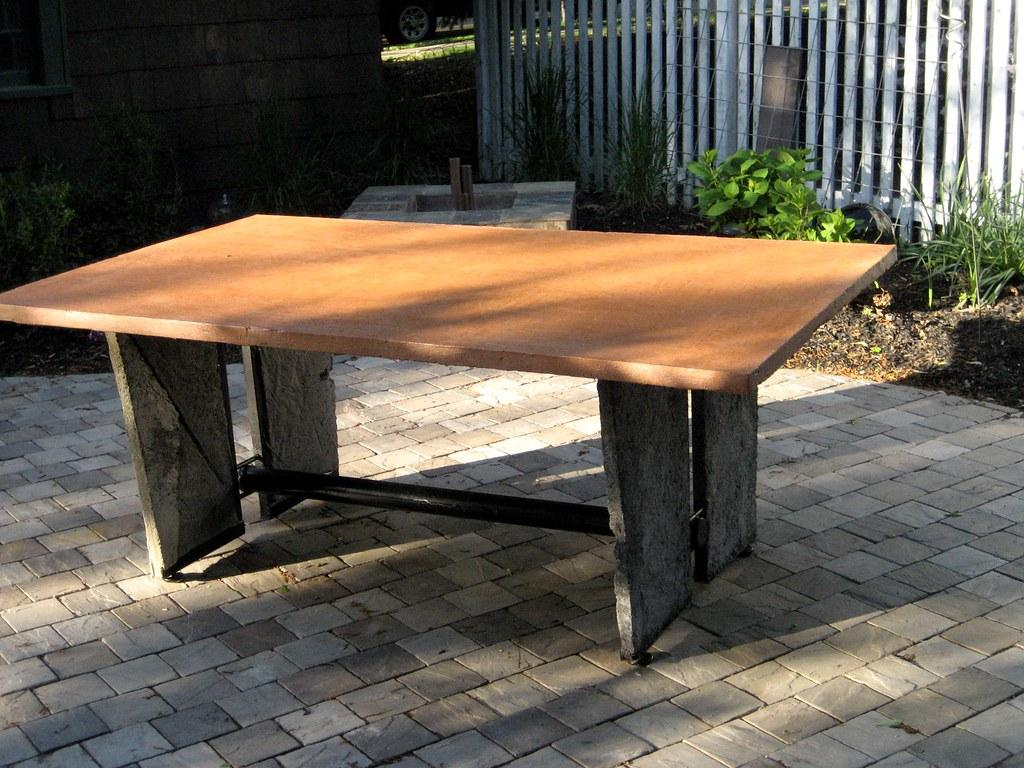table: (1, 210, 899, 665), (340, 179, 577, 232)
